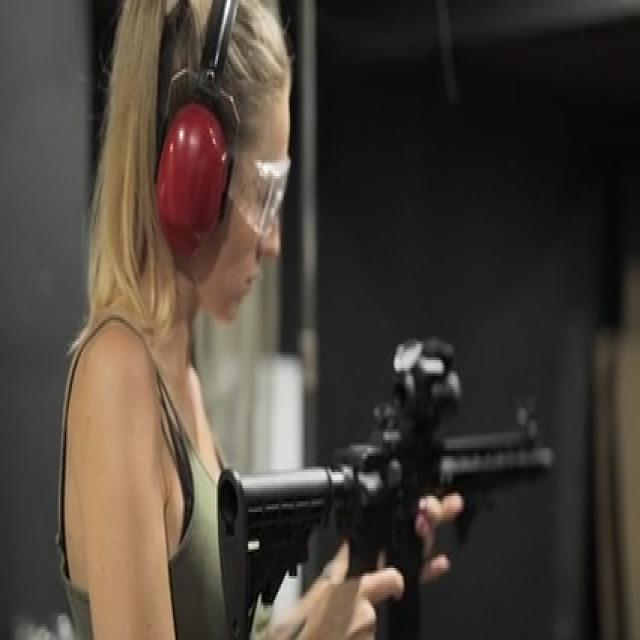Gun_Holder: (187, 324, 563, 640)
Person: (57, 0, 403, 640)
